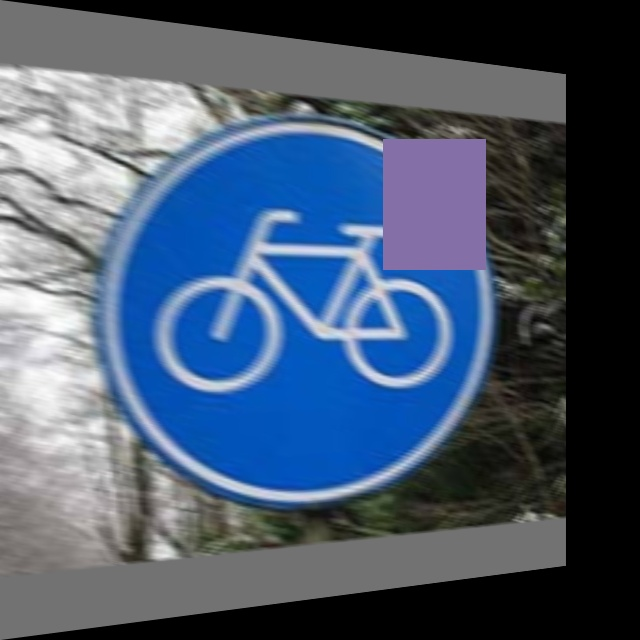Compulsory_Cycle_Track: (106, 107, 496, 497)
